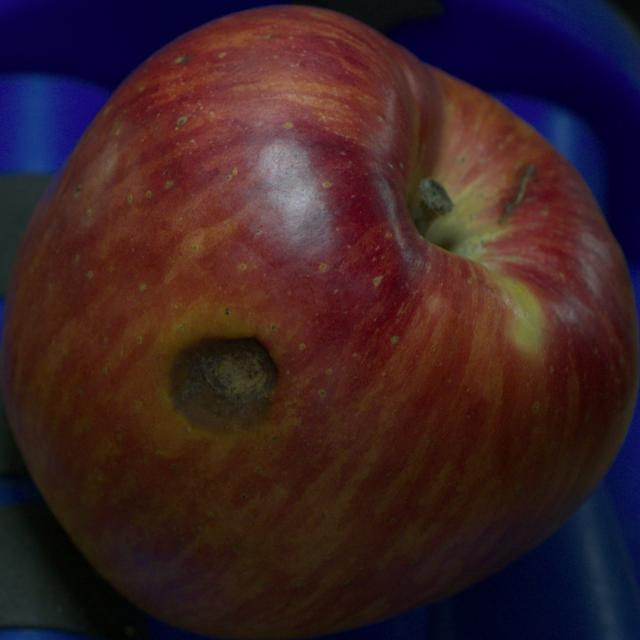apple: (0, 7, 639, 639)
rotten: (170, 338, 278, 431)
scratch: (499, 165, 536, 222)
